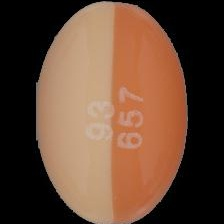55154-8251: (0, 0, 224, 224)
